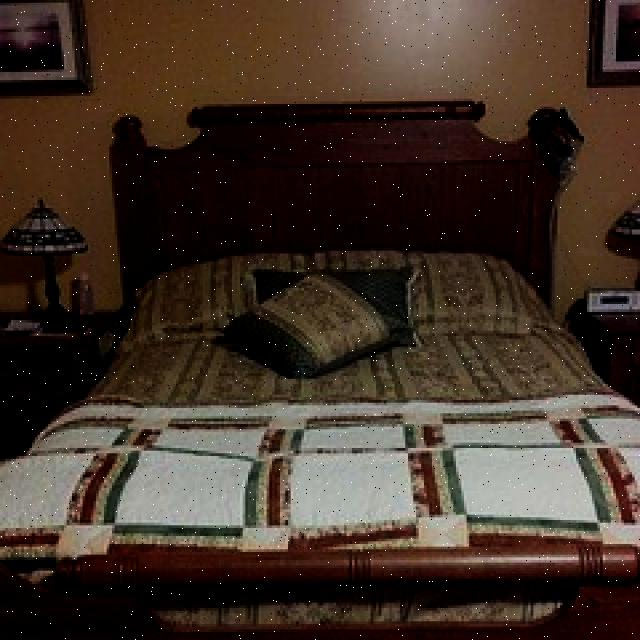bed: (0, 85, 600, 619)
